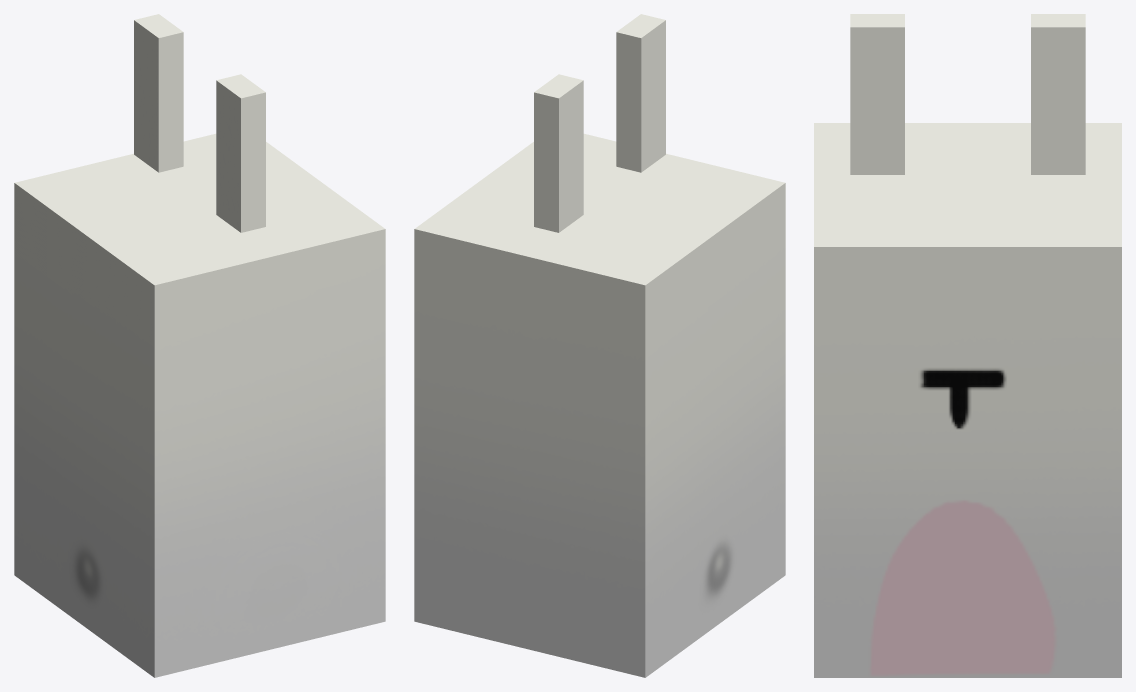
Rendered from bunny_withAnimation.fbx.
3 views of the same model, side by side, from view 1: azimuth 30°, elevation 25°; view 2: azimuth 150°, elevation 25°; view 3: azimuth 270°, elevation 25° (orthographic). The views are drawn at different scales.
Visible parts, largest first — view 1: polySurface13, polySurface14, polySurface15; view 2: polySurface13, polySurface15, polySurface14; view 3: polySurface13, polySurface14, polySurface15.
Part boxes in pixels (x1,y1,x2,y2): polySurface13: [14, 133, 385, 677]; polySurface14: [216, 74, 265, 232]; polySurface15: [134, 14, 183, 172]; polySurface13: [414, 133, 785, 677]; polySurface15: [534, 74, 583, 232]; polySurface14: [616, 14, 665, 172]; polySurface13: [814, 123, 1121, 677]; polySurface14: [850, 14, 904, 174]; polySurface15: [1031, 14, 1085, 174].
Size of the model in its own units: 0.4031 by 0.9042 by 0.4235.
Materials: 1 (1 with a texture image).
